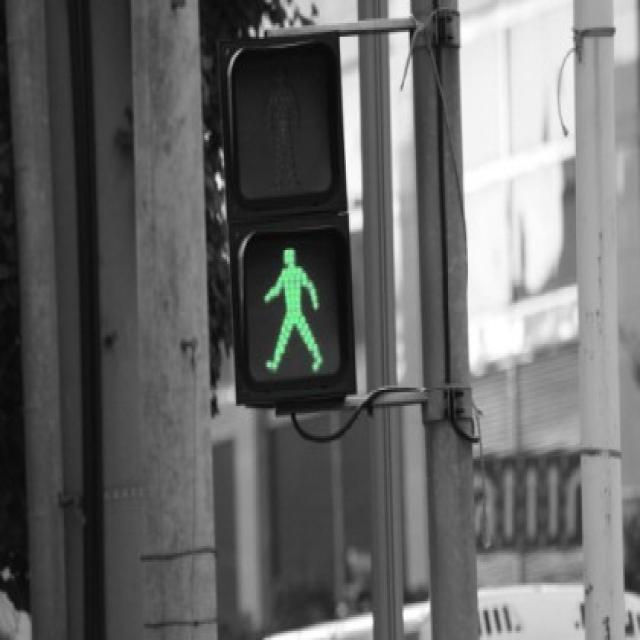green_light: (244, 247, 346, 376)
